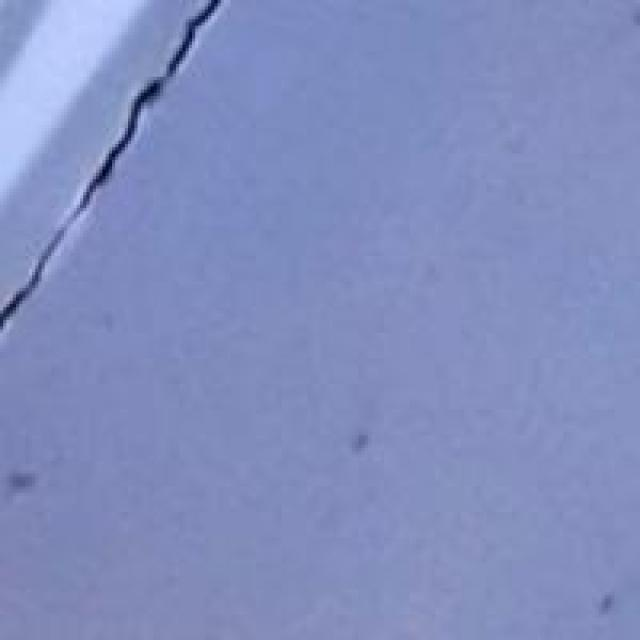crack: (7, 0, 234, 355)
